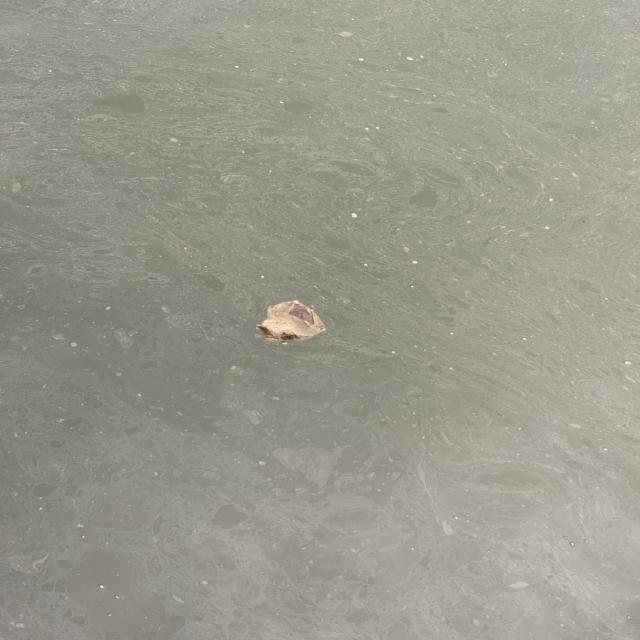Kantong Plastik: (257, 297, 328, 345)
